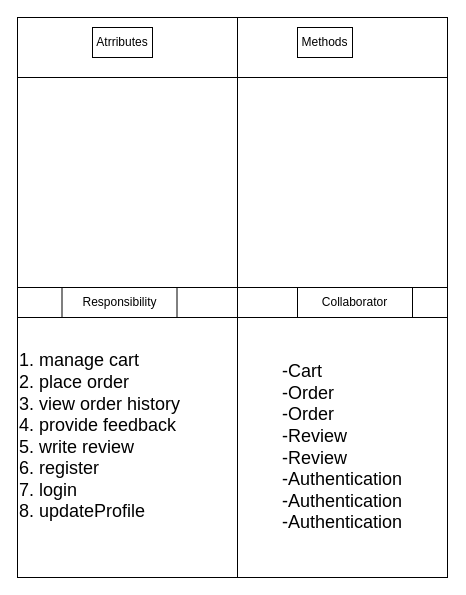
Image size: 466x595. Some labels were removed from this diagram. Each missing label, with the box of its shape:
+ register() +login() +logout() +updateProfile() +resetPassword(): (236, 76, 448, 288)
-userID -username -email -password -dateJoined -lastLogin: (16, 76, 238, 288)
